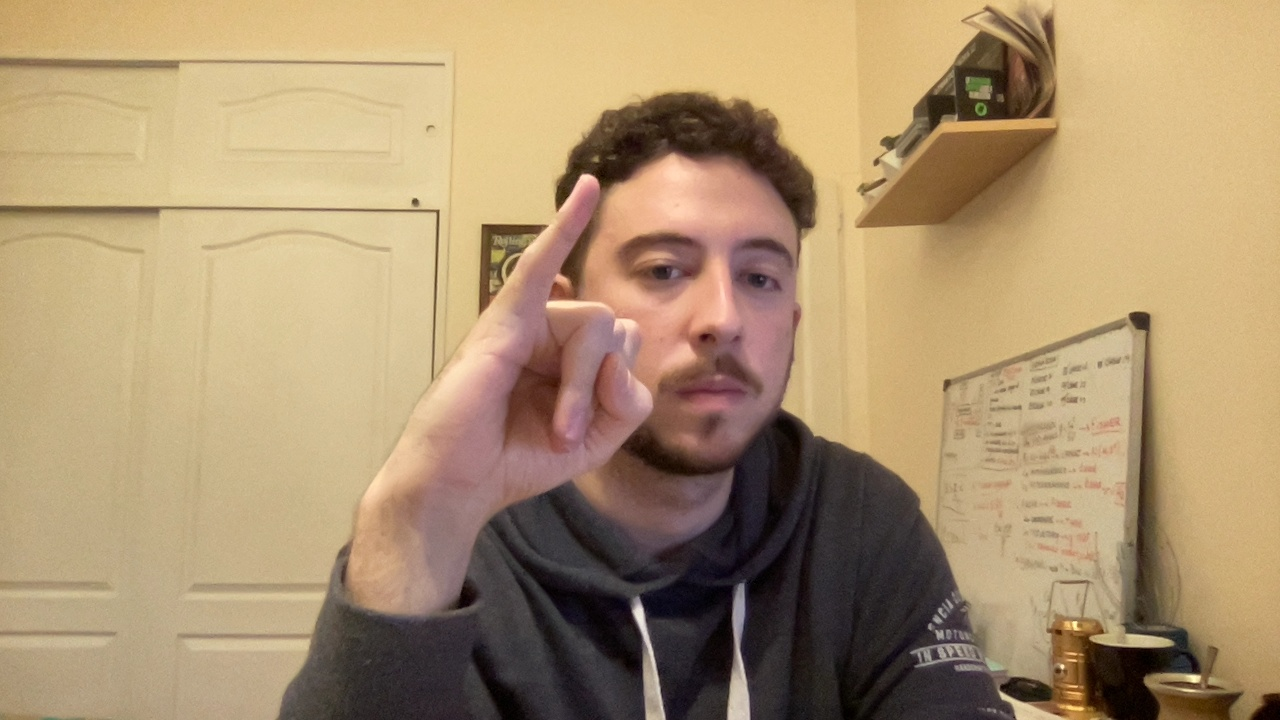menique: (371, 155, 665, 514)
